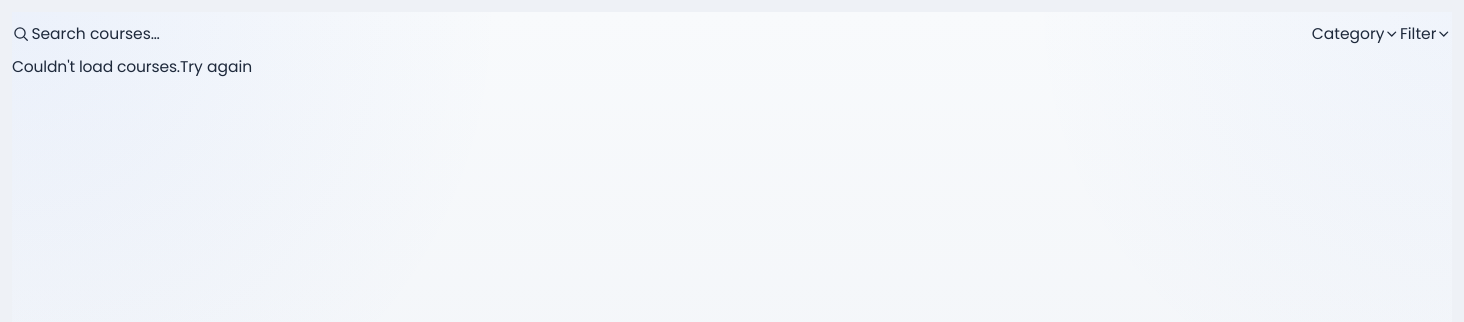
it: Discover cards › offers to try again after a failed load
The image size is (1464, 322).
Expected: the message shows "Couldn't load courses.", [12, 56, 180, 77]
Click the button "Try again": (216, 66) [180, 55, 252, 78]
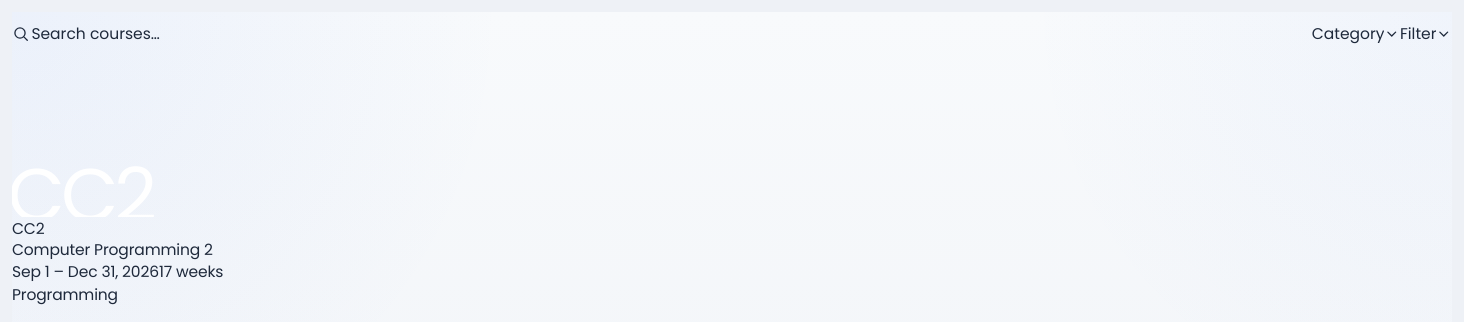
Result: the link "Computer Programming 2" is shown at [12, 240, 213, 260]
